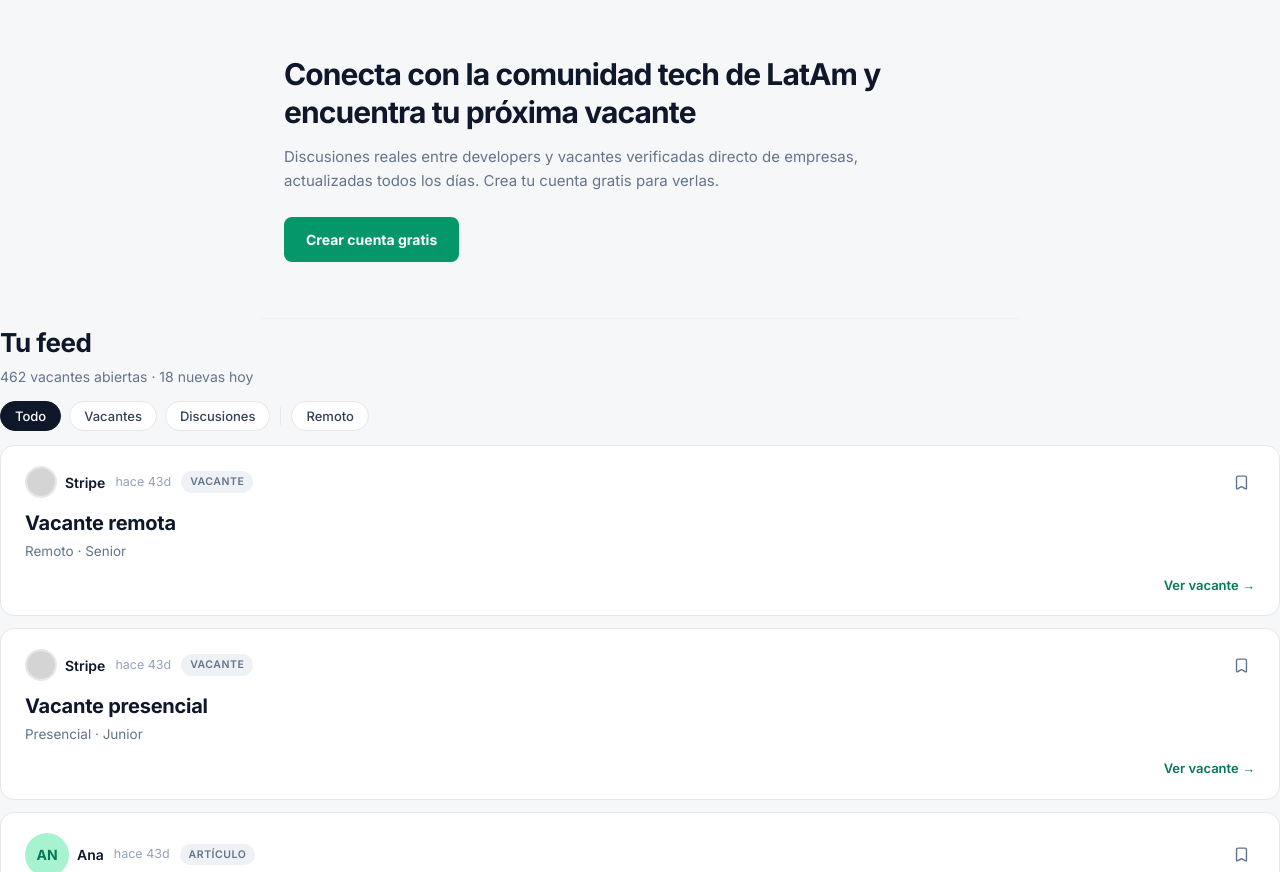
Test case: la cabecera y los filtros del feed › si los filtros no dejan nada, lo dice y ofrece quitarlos
The image size is (1280, 872).
(page scrolled)
Expected: the heading "Vacante remota" is shown, top-left (25, 511), bottom-right (176, 535)
Click the button "Discusiones". click: [218, 416]
box: top-left (165, 401), bottom-right (270, 431)
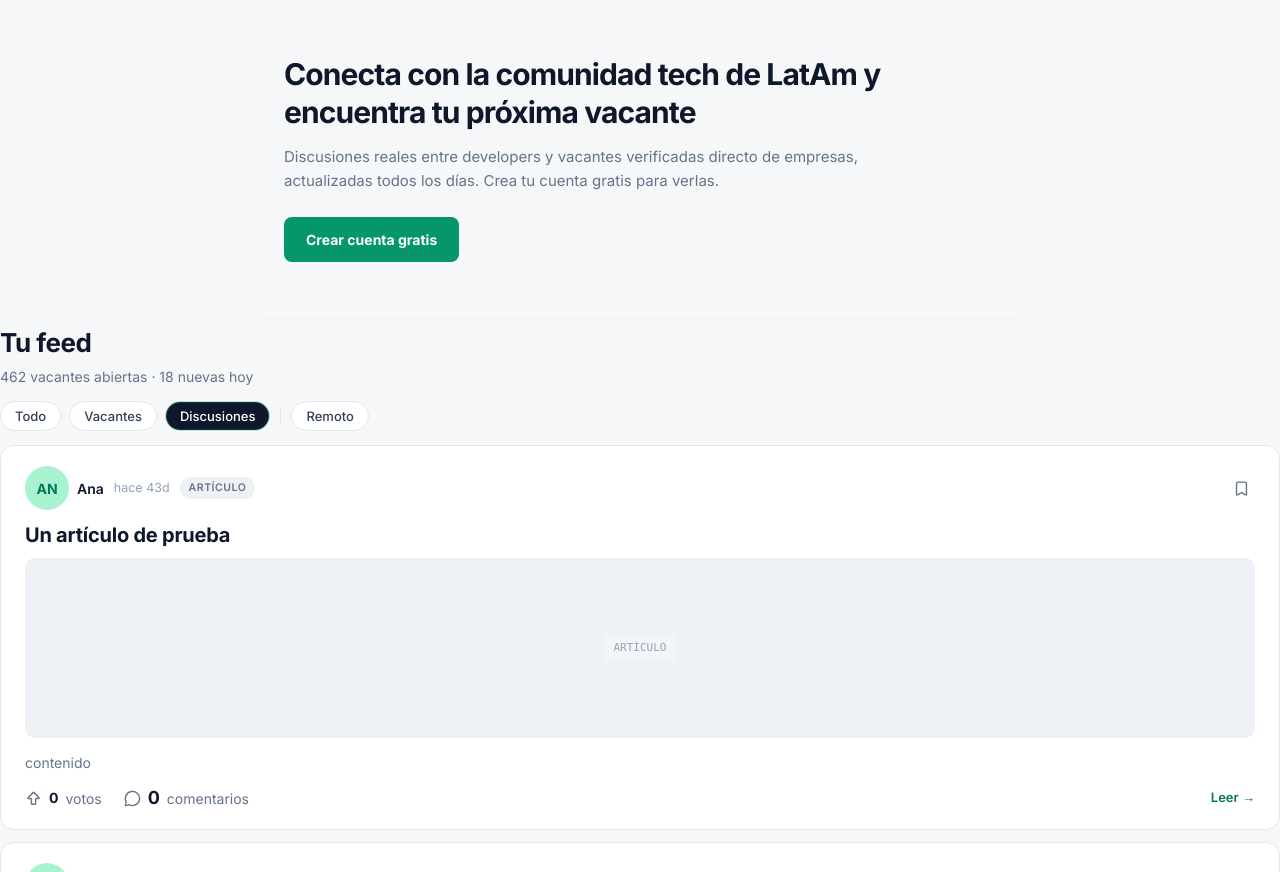
Click the button "Remoto". click: [330, 416]
box: top-left (292, 401), bottom-right (369, 431)
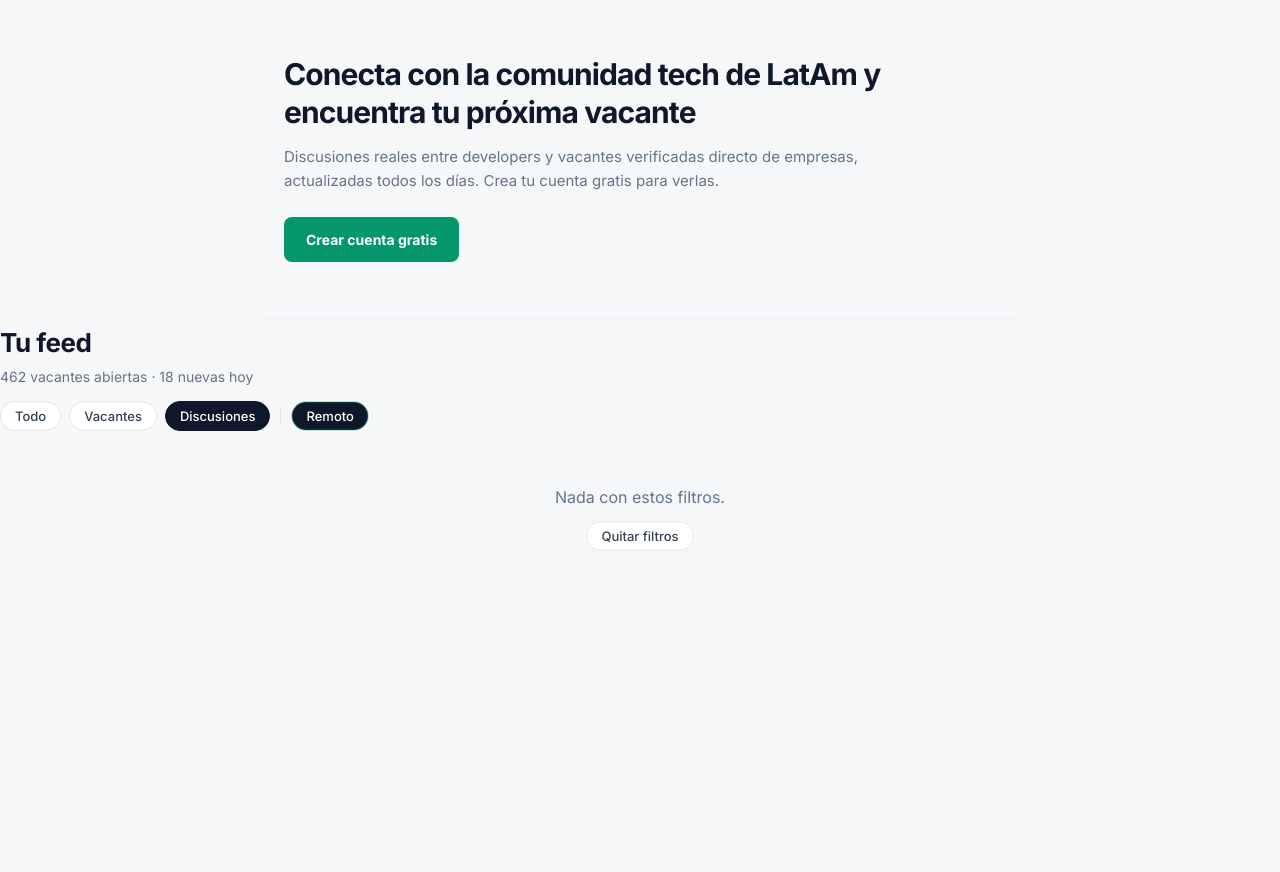
Expected: the text "Nada con estos filtros." is shown, top-left (555, 485), bottom-right (725, 509)
Click the button "Quitar filtros". click: [640, 536]
box: top-left (586, 521), bottom-right (694, 551)
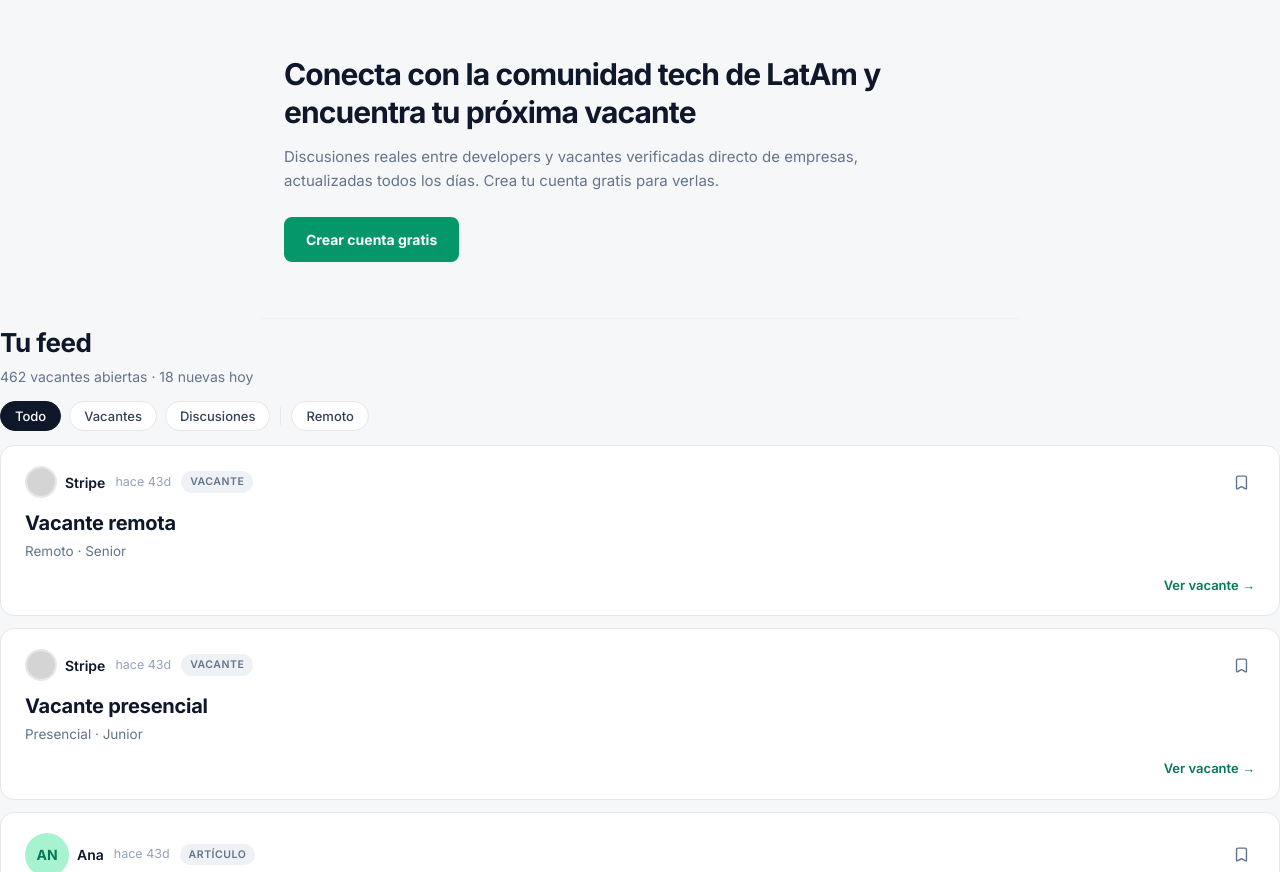
Expected: the heading "Vacante remota" is shown, top-left (25, 511), bottom-right (176, 535)
